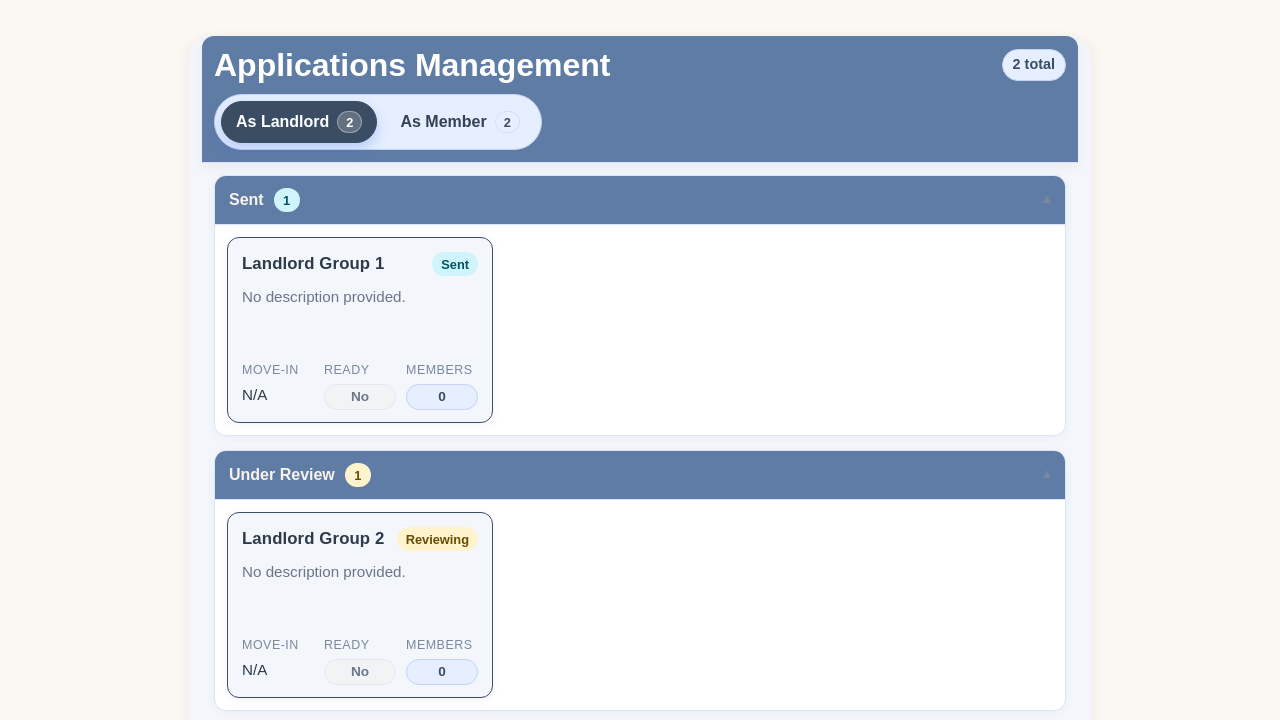
Test: Applications Page › switches to member tab and shows member applications
Click the tab "As Member 2".
click(460, 122)  # box x1=386 y1=101 x2=535 y2=143
(page scrolled)
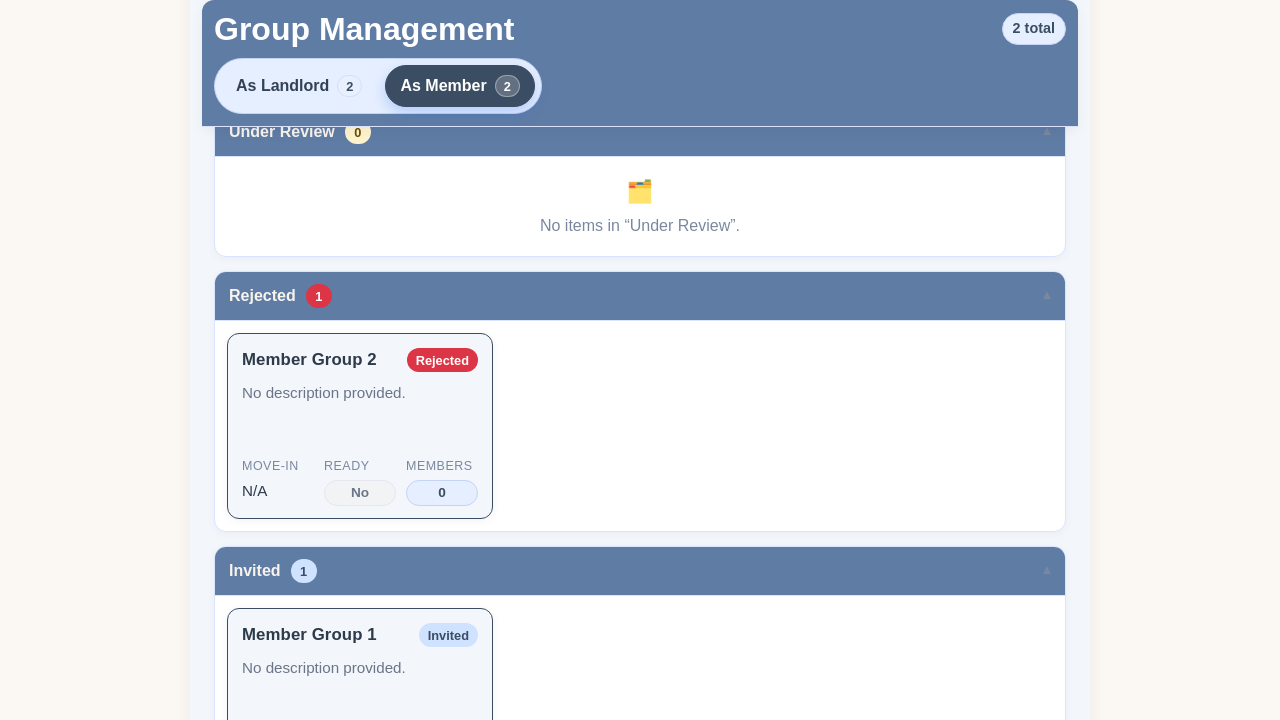
Check: the heading "Member Group 1" is shown, box x1=242 y1=625 x2=377 y2=645
Check: the heading "Member Group 2" is shown, box x1=242 y1=350 x2=377 y2=370
